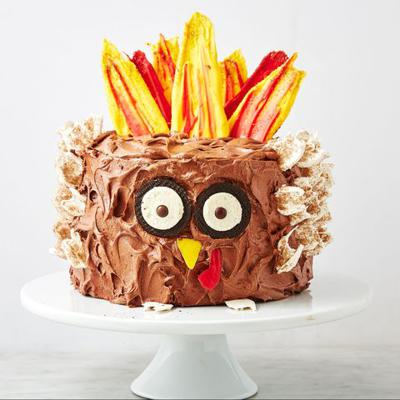cake: (51, 105, 337, 312)
